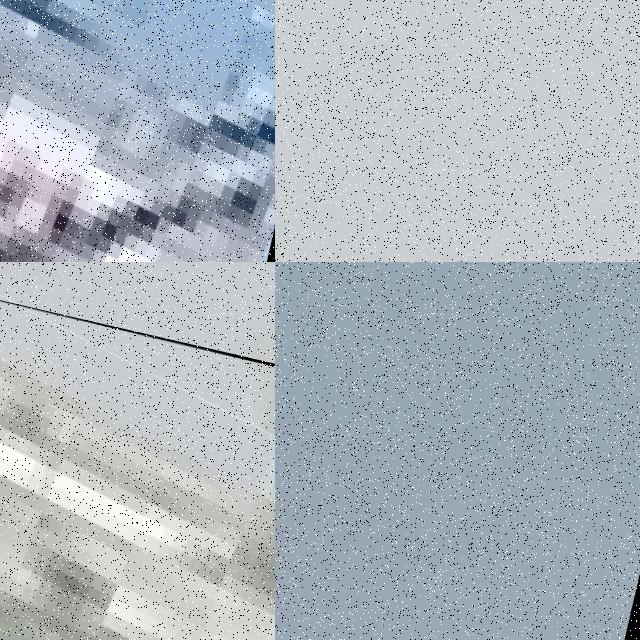drone: (0, 263, 275, 640), (0, 0, 275, 262)
